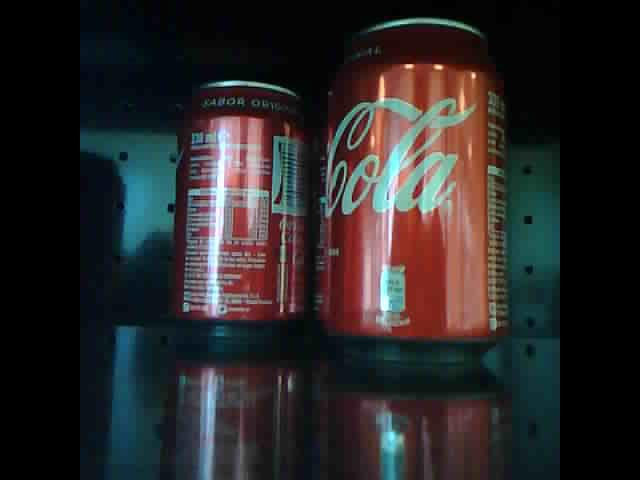coca cola: (309, 18, 512, 354), (173, 79, 312, 340)
